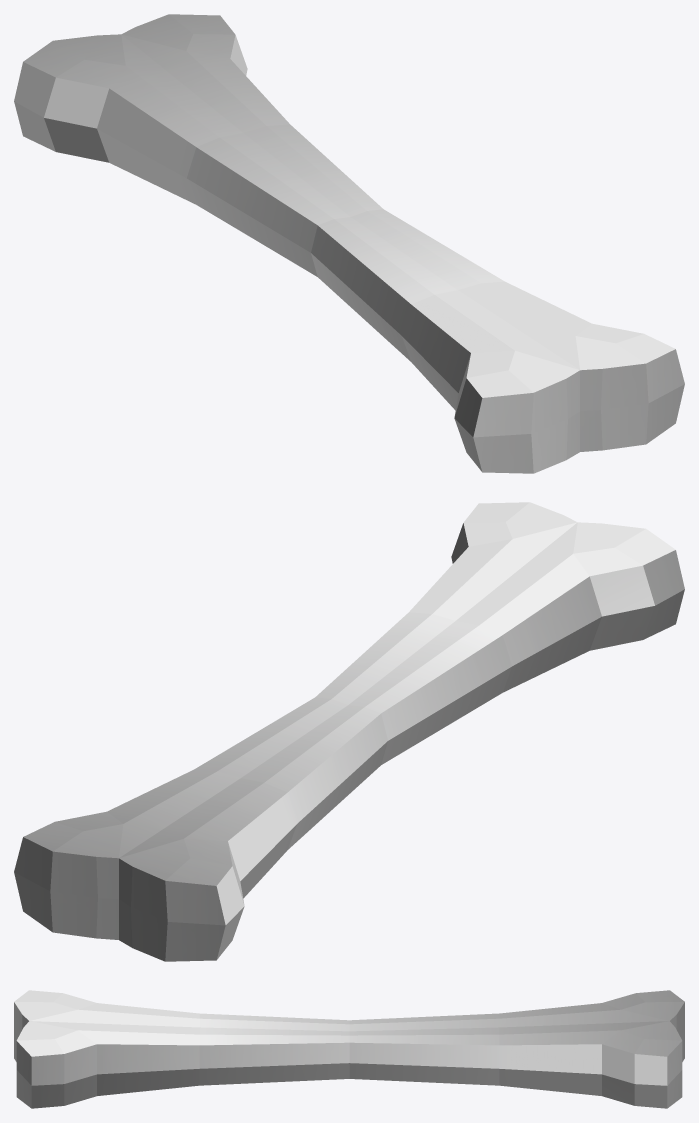
The model's file is Bone_02.fbx.
The picture shows the model from 3 angles, top to bottom: view 1: azimuth 30°, elevation 25°; view 2: azimuth 150°, elevation 25°; view 3: azimuth 270°, elevation 25°; orthographic projection. The views are drawn at different scales.
Visible parts, largest first — view 1: Bone_02; view 2: Bone_02; view 3: Bone_02.
Boxes of the visible parts, x1=… form: Bone_02: x1=14, y1=14, x2=684, y2=473; Bone_02: x1=14, y1=502, x2=684, y2=961; Bone_02: x1=14, y1=990, x2=684, y2=1108.
Bounding box in the file's own units: 6.64 × 2.52 × 25.91.
